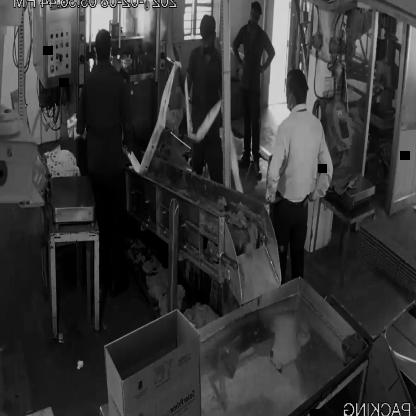no_glove: (265, 128, 290, 224), (304, 138, 334, 206), (256, 32, 278, 76), (229, 30, 247, 68)
